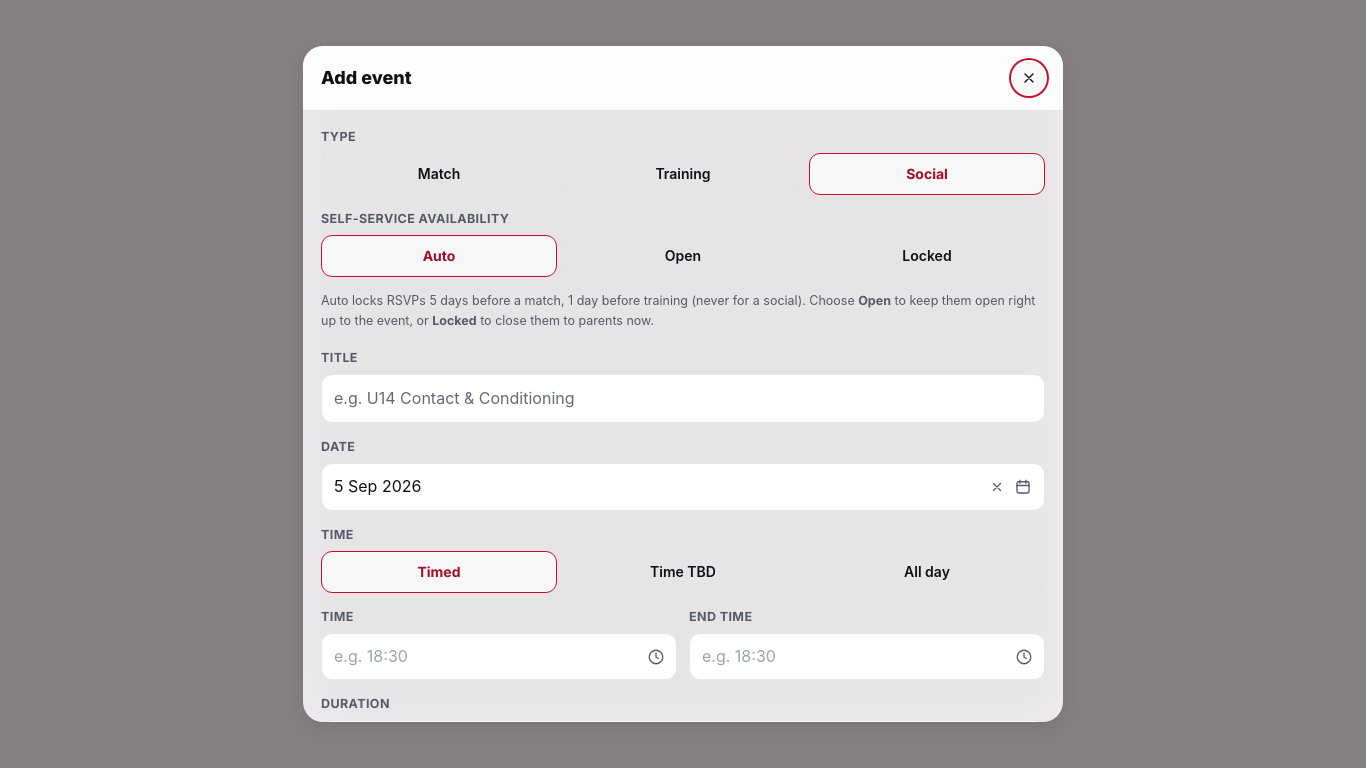
Test: the three-way time control › hides the time fields in the all-day state
Check: the field labelled "Time" is shown, box [321,633,677,680]
Click the radio button labelled "All day".
click(927, 572)  # box [809,551,1045,593]
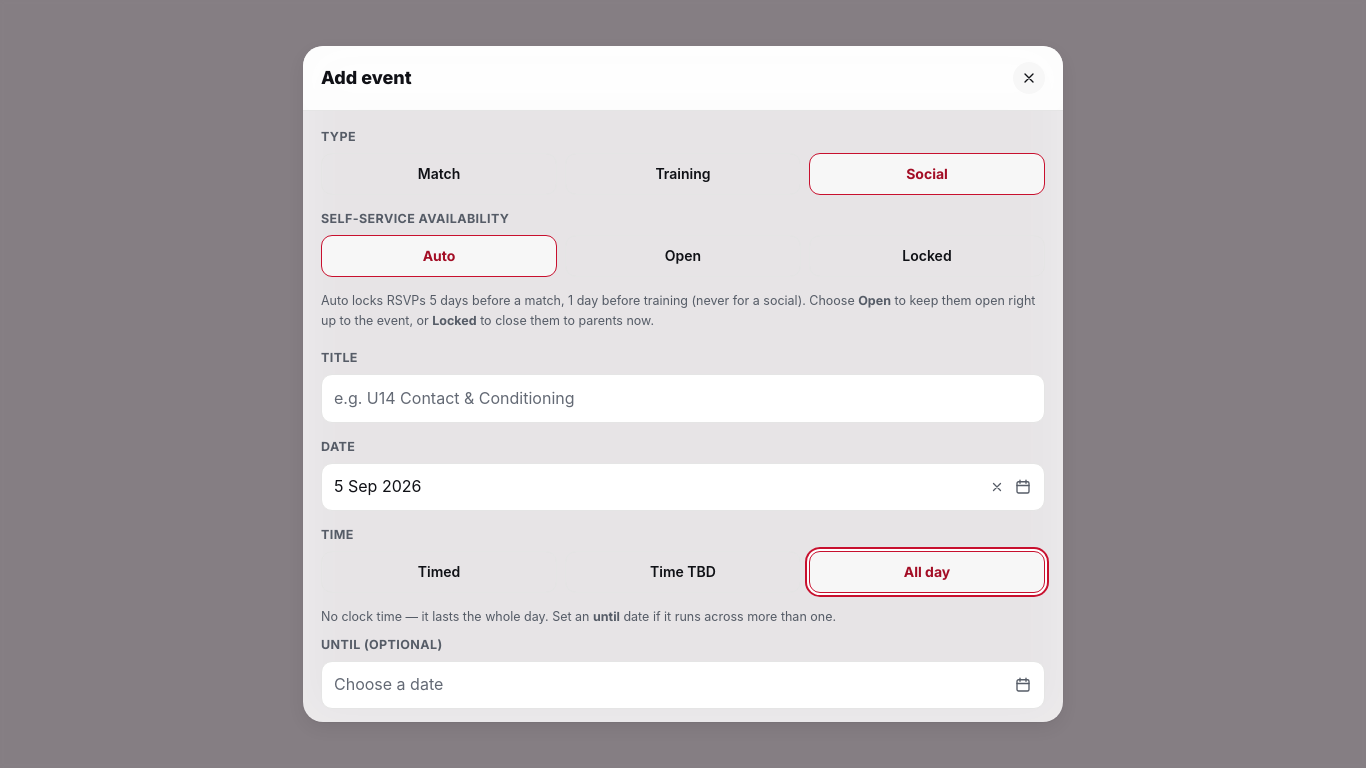
Check: the label labelled "End time" is gone
